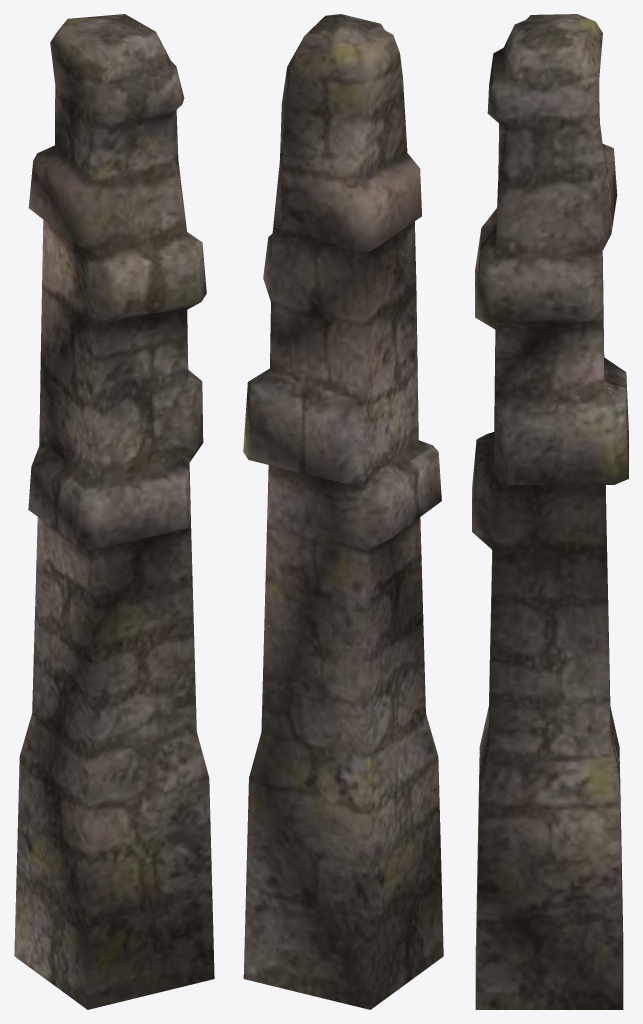
File: SV_Wall_Outside_polySurface13-transformed.glb
3 renders of one model, left to right at view 1: azimuth 30°, elevation 25°; view 2: azimuth 150°, elevation 25°; view 3: azimuth 270°, elevation 25°, orthographic.
Visible parts, largest first — view 1: default; view 2: default; view 3: default.
Boxes of the visible parts, x1=… form: default: x1=14, y1=14, x2=214, y2=1009; default: x1=243, y1=14, x2=443, y2=1009; default: x1=472, y1=14, x2=628, y2=1009.
Bounding box in the file's own units: 1.3 × 8.74 × 1.3.
1 material, 1 textured.
